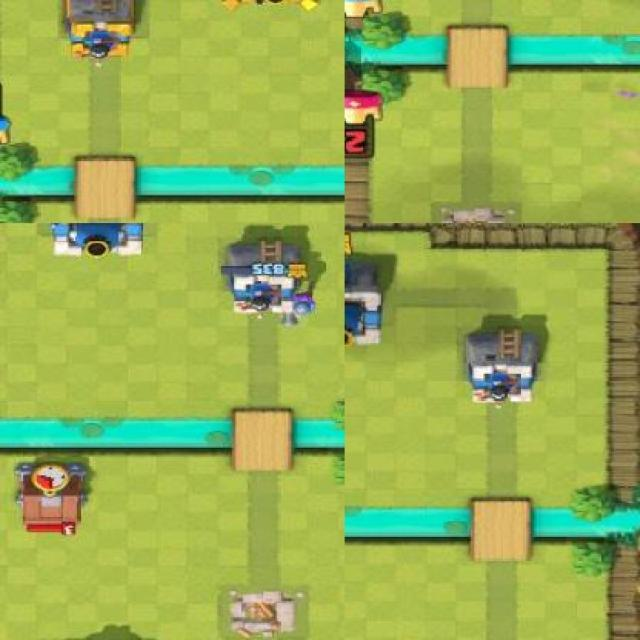Enemy-GoblinCage: (12, 460, 91, 542)
Player-Musketeer: (275, 282, 320, 331)
